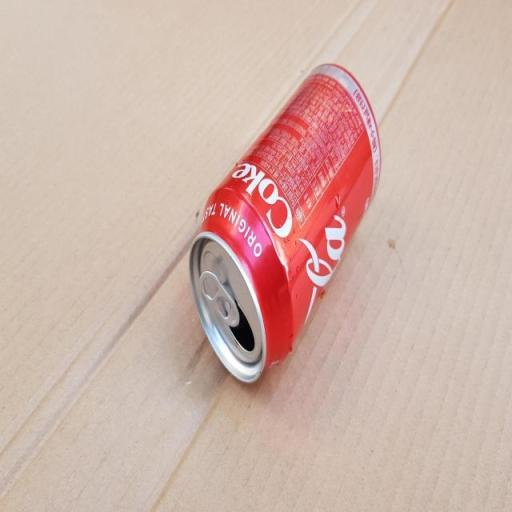metal: (146, 29, 462, 420)
